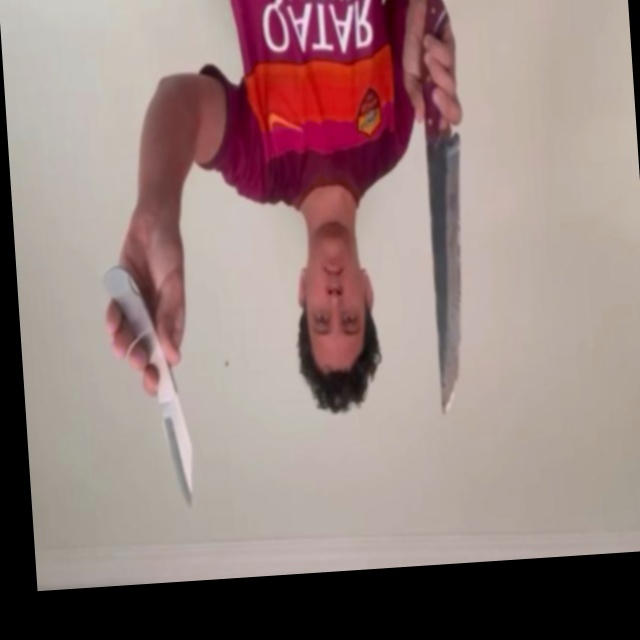Sharp-Object: (421, 129, 479, 417), (162, 403, 197, 515)
